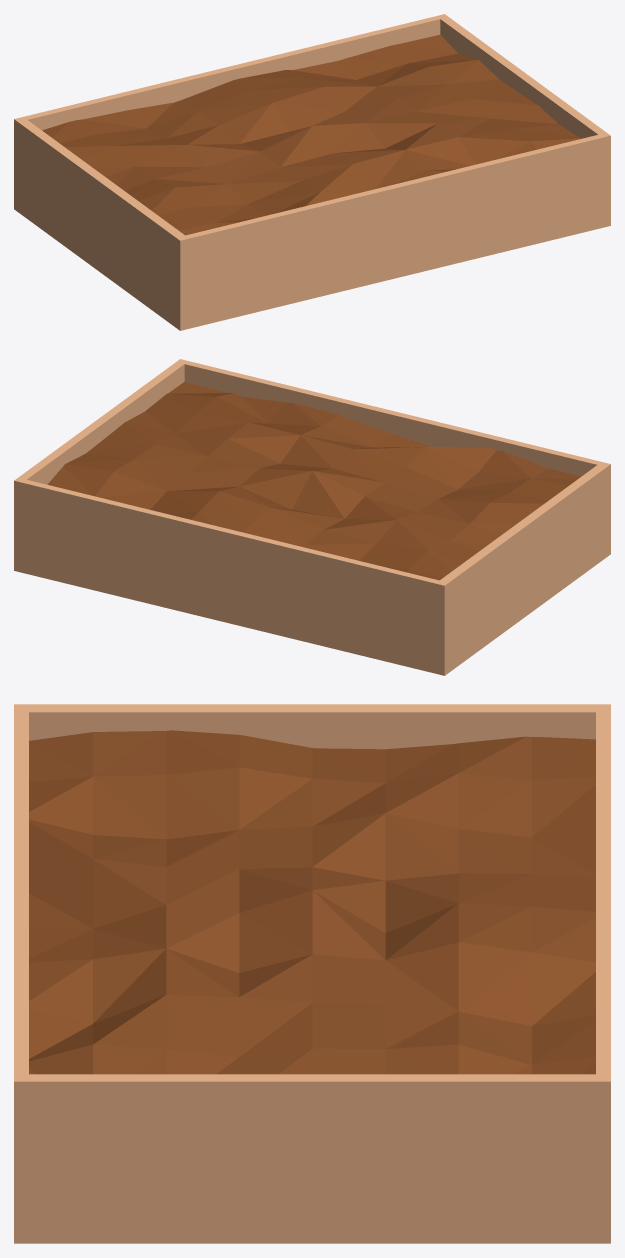
The model's file is mod_bg_bacdeplantationM.fbx.
3 renders of one model, top to bottom at view 1: azimuth 30°, elevation 25°; view 2: azimuth 150°, elevation 25°; view 3: azimuth 270°, elevation 25°, orthographic. The views are drawn at different scales.
Parts seen in each view (by area): view 1: Bac de plantation 1Merge; view 2: Bac de plantation 1Merge; view 3: Bac de plantation 1Merge.
Part boxes in pixels (x1,y1,x2,y2): Bac de plantation 1Merge: (14,14,610,330); Bac de plantation 1Merge: (14,359,610,675); Bac de plantation 1Merge: (14,704,610,1243).
Bounding box in the file's own units: 175 × 35.62 × 117.
